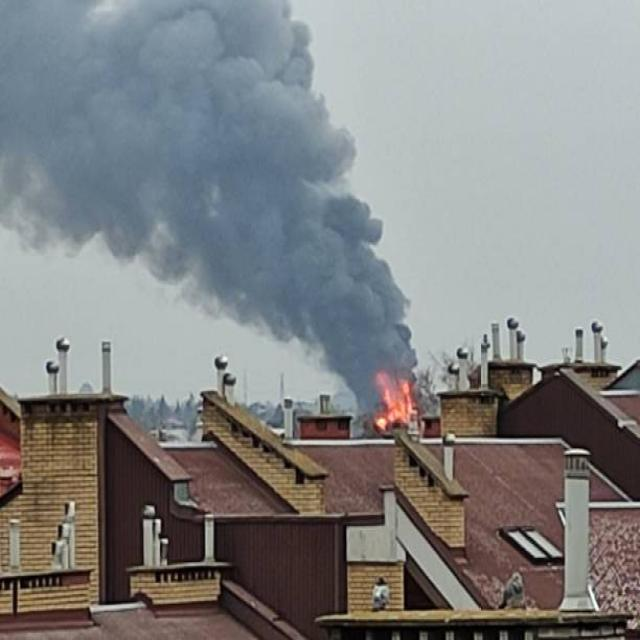Fire: (371, 372, 417, 420)
Smoke: (5, 3, 315, 259), (206, 197, 413, 398)
